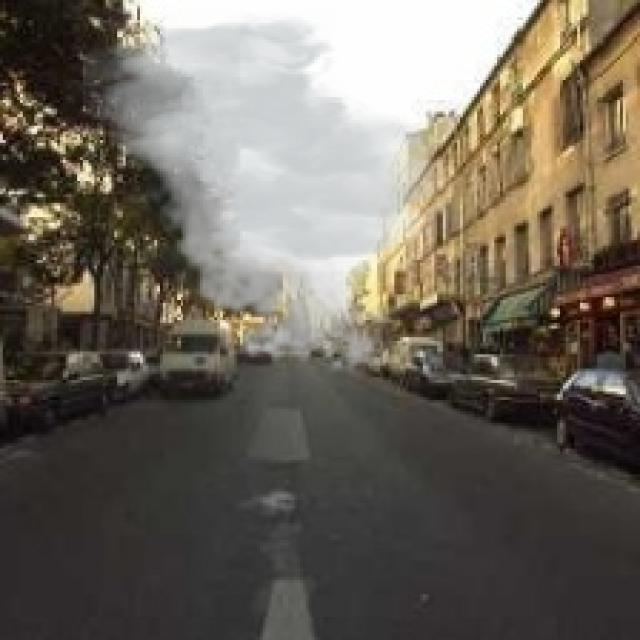Smoke: (83, 11, 460, 383)
